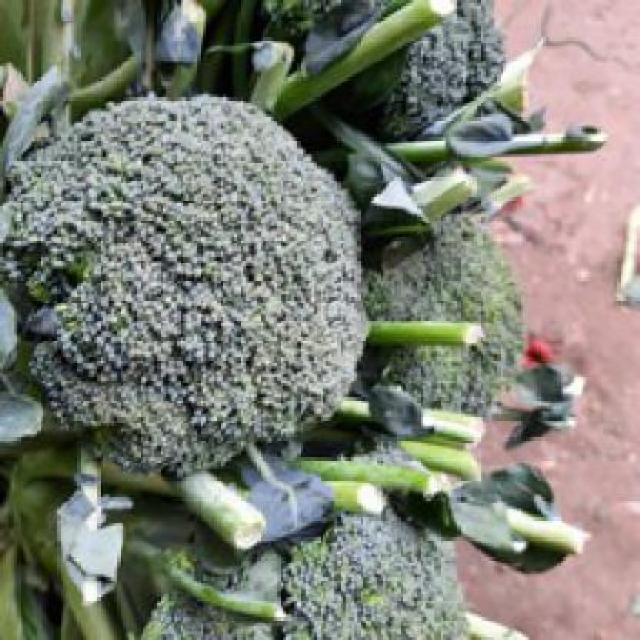broccoli: (6, 71, 380, 538), (148, 502, 468, 635), (366, 203, 517, 463)
